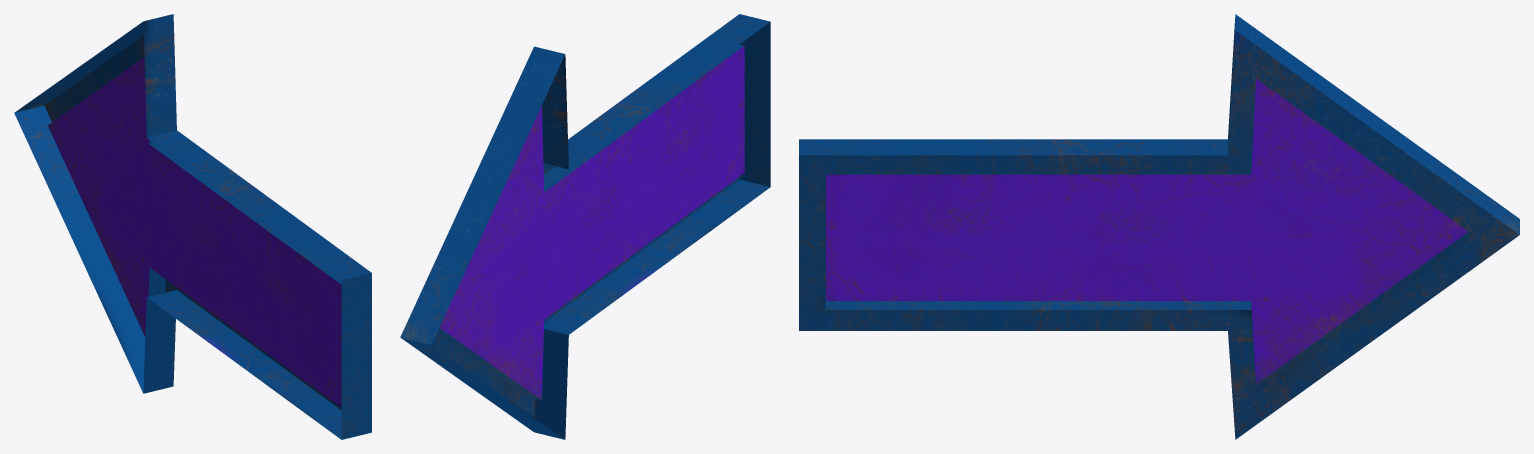
Rendered from Arrow.obj.
3 renders of one model, left to right at view 1: azimuth 30°, elevation 25°; view 2: azimuth 150°, elevation 25°; view 3: azimuth 270°, elevation 25°, orthographic. The views are drawn at different scales.
Visible parts, largest first — view 1: Cube; view 2: Cube; view 3: Cube.
Boxes of the visible parts, box(x1,y1,x2,y2) form: Cube: box(14, 14, 371, 439); Cube: box(400, 14, 770, 439); Cube: box(799, 14, 1519, 439).
Size of the model in its own units: 0.3955 by 4.66 by 7.43.
Materials: 1 (1 with a texture image).
